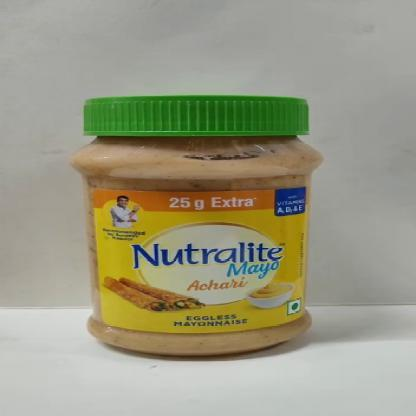Nutralite ACHARI MAYO 300g-275g-25g-: (66, 95, 322, 358)
